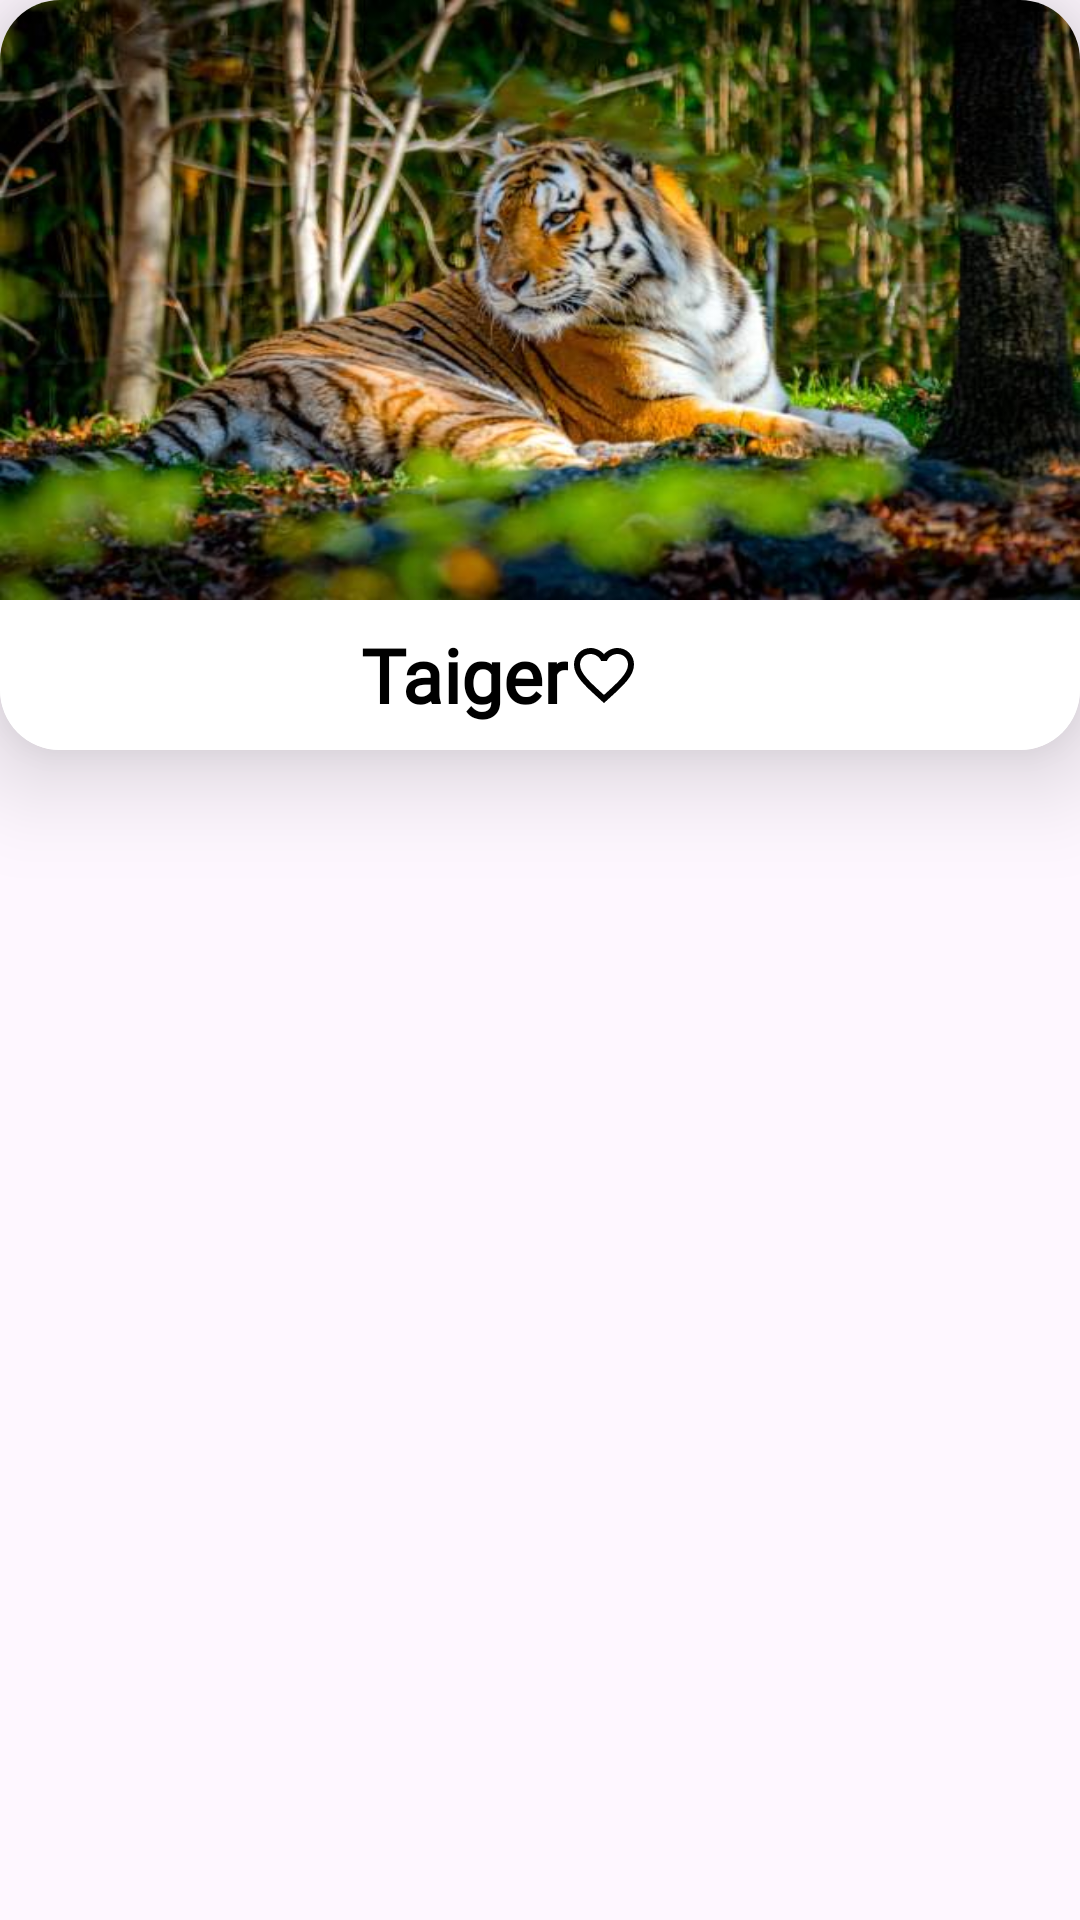

Icons on this 1080w x 1920h Android screen, each with its box as (x1, y1, x2, y2):
fav selctor: (574, 648, 634, 703)
